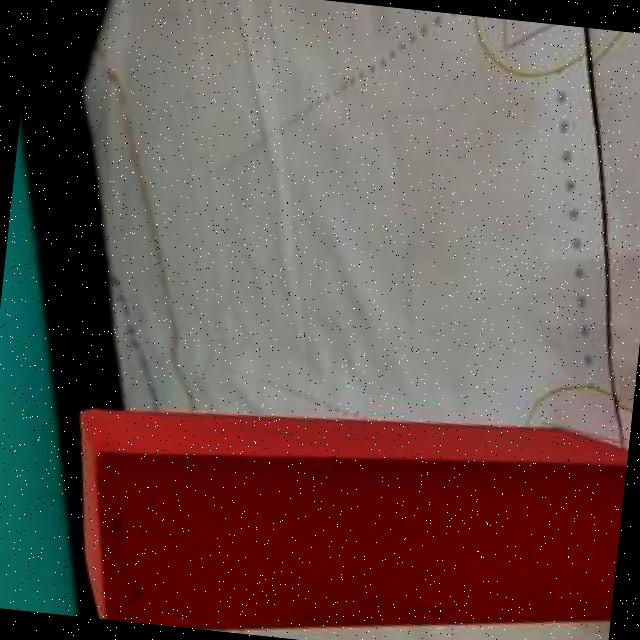redbox: (68, 405, 626, 635)
